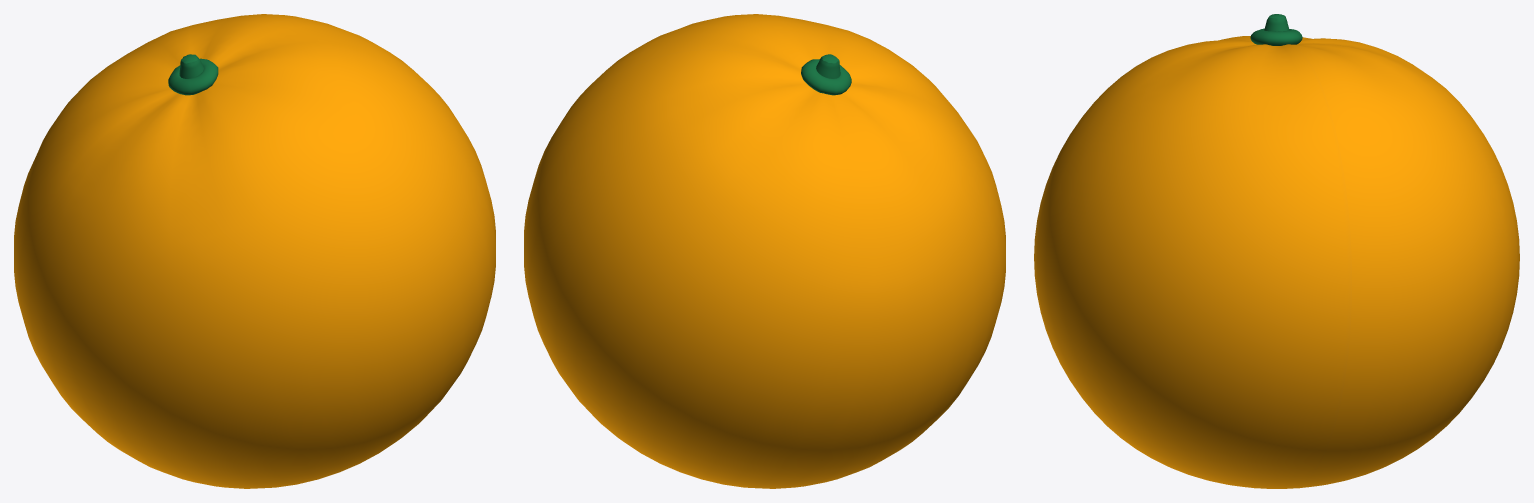
The model's file is arancia.fbx.
3 renders of one model, left to right at view 1: azimuth 30°, elevation 25°; view 2: azimuth 150°, elevation 25°; view 3: azimuth 270°, elevation 25°, orthographic.
Parts seen in each view (by area): view 1: Arancia; view 2: Arancia; view 3: Arancia.
Part boxes in pixels (x1,y1,x2,y2): Arancia: (14, 14, 495, 488); Arancia: (524, 14, 1005, 488); Arancia: (1034, 14, 1519, 488).
Size of the model in its own units: 18.49 by 17.81 by 18.54.
